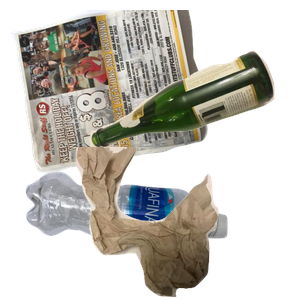glass: (87, 48, 300, 190)
paper: (10, 10, 210, 175)
plastic: (23, 169, 243, 300)
trash: (73, 147, 300, 300)
